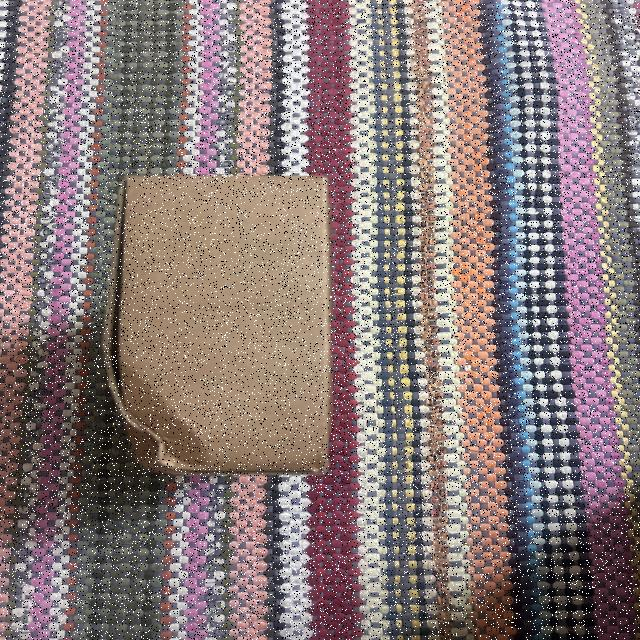damaged: (104, 167, 341, 482), (99, 362, 224, 480)
